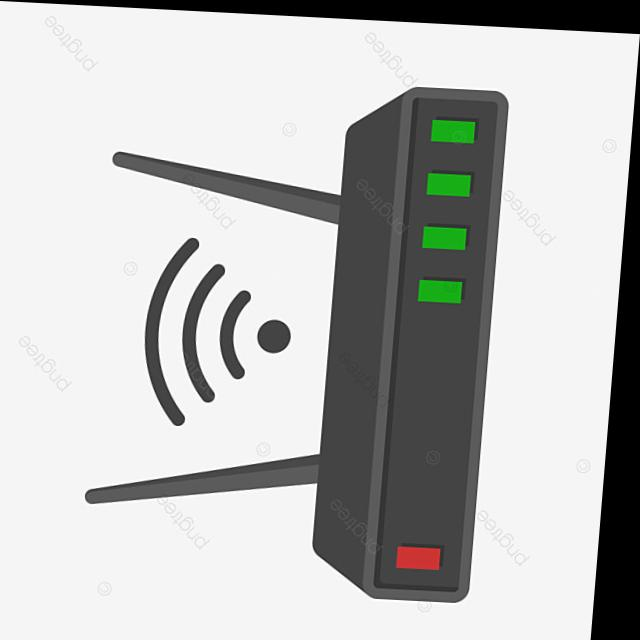Router: (0, 0, 590, 640)
